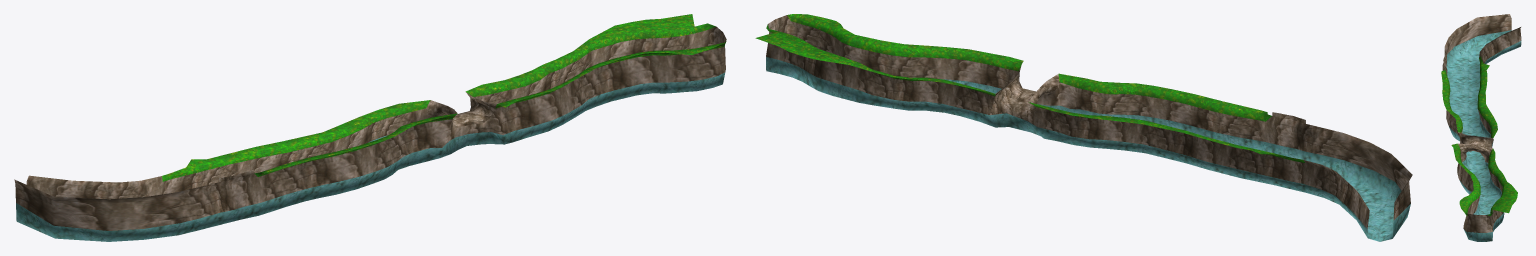
The model's file is EKH_ENTRANCE_PS_EN_RIVER_BOTTOM4746__GX.fbx.
3 views of the same model, side by side, from view 1: azimuth 30°, elevation 25°; view 2: azimuth 150°, elevation 25°; view 3: azimuth 270°, elevation 25° (orthographic). The views are drawn at different scales.
Parts seen in each view (by area): view 1: EKH_ENTRANCE_PS_EN_RIVER_BOTTOM4746__GX; view 2: EKH_ENTRANCE_PS_EN_RIVER_BOTTOM4746__GX; view 3: EKH_ENTRANCE_PS_EN_RIVER_BOTTOM4746__GX.
Part boxes in pixels (x1=…): EKH_ENTRANCE_PS_EN_RIVER_BOTTOM4746__GX: x1=14, y1=14, x2=726, y2=241; EKH_ENTRANCE_PS_EN_RIVER_BOTTOM4746__GX: x1=755, y1=14, x2=1412, y2=241; EKH_ENTRANCE_PS_EN_RIVER_BOTTOM4746__GX: x1=1441, y1=14, x2=1521, y2=241.
Bounding box in the file's own units: 777005 × 55262 × 130772.
3 materials, 3 textured.
